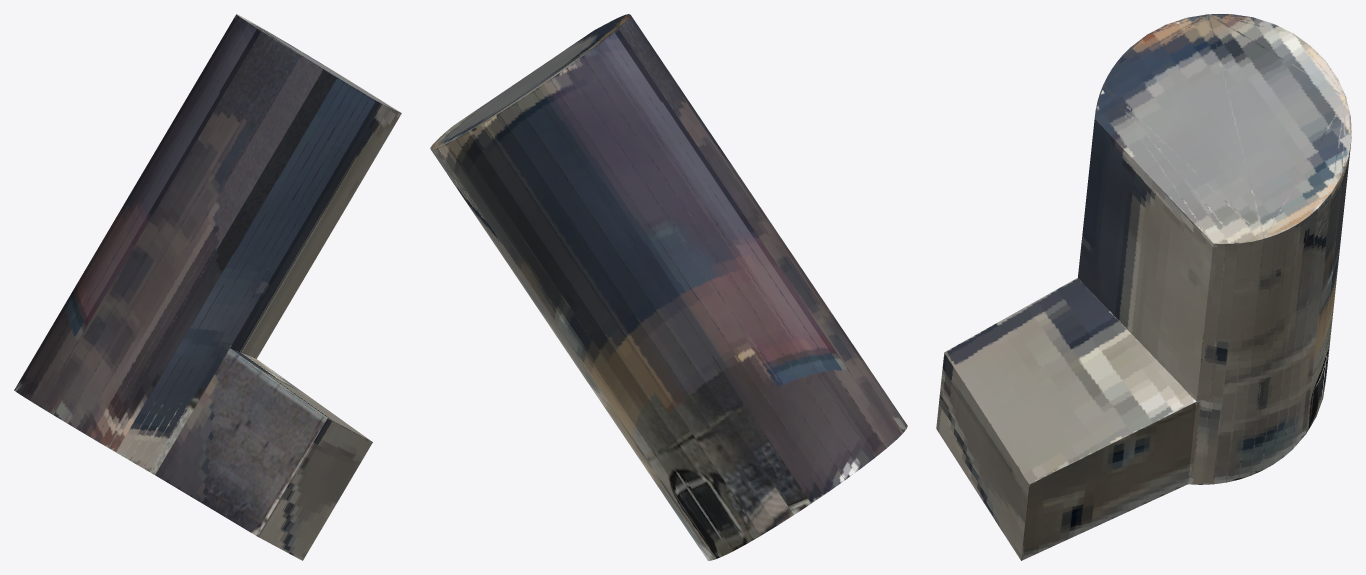
The picture shows the model from 3 angles, left to right: view 1: azimuth 30°, elevation 25°; view 2: azimuth 150°, elevation 25°; view 3: azimuth 270°, elevation 25°; orthographic projection. The views are drawn at different scales.
Parts seen in each view (by area): view 1: BAG_0599100000656913 (×6); view 2: BAG_0599100000656913 (×6); view 3: BAG_0599100000656913 (×7).
Part boxes in pixels (box(x1,y1,x2,y2)): BAG_0599100000656913 (×6): box(14, 14, 401, 560); BAG_0599100000656913 (×6): box(430, 14, 907, 560); BAG_0599100000656913 (×7): box(936, 14, 1351, 560).
Bounding box in the file's own units: 16.68 × 19.73 × 13.08.
1 material, 1 textured.
